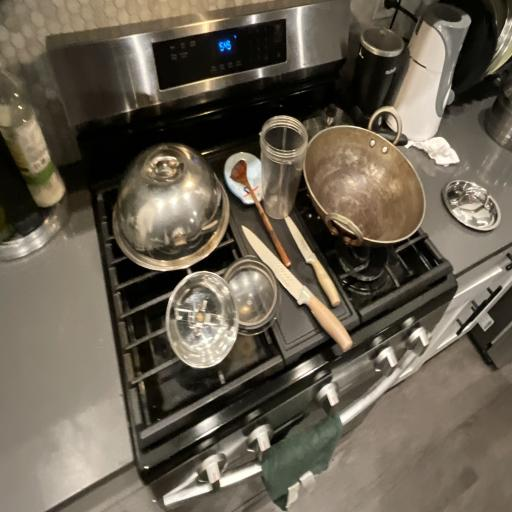Pan: (288, 91, 444, 294)
Stove: (77, 62, 496, 445)
knife: (224, 211, 357, 364), (279, 211, 360, 317)
